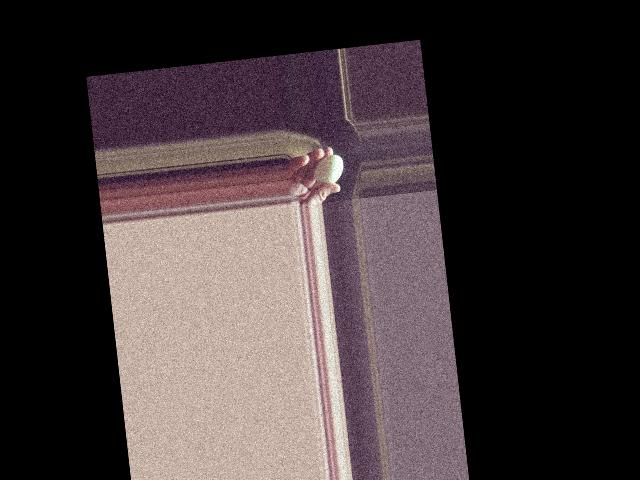egg: (312, 154, 345, 185)
